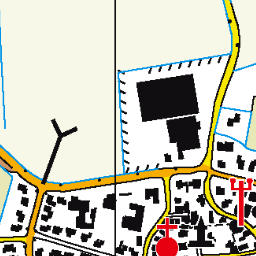church: (149, 216, 183, 256)
